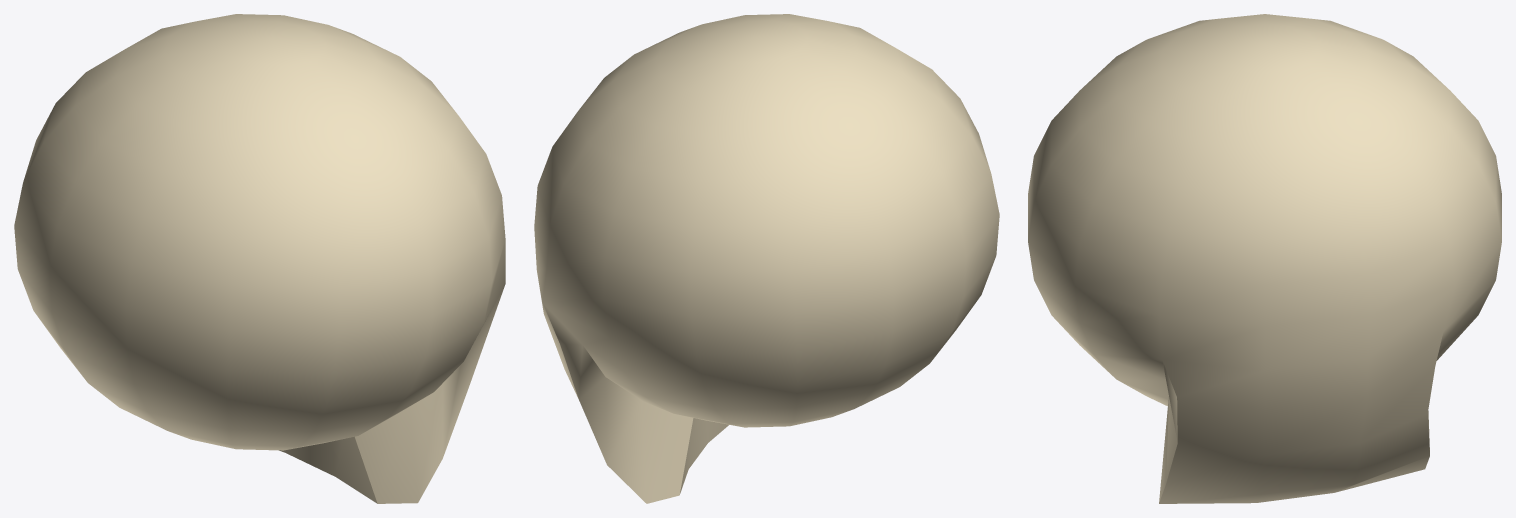
The model's file is SM_Skull.fbx.
The picture shows the model from 3 angles, left to right: view 1: azimuth 30°, elevation 25°; view 2: azimuth 150°, elevation 25°; view 3: azimuth 270°, elevation 25°; orthographic projection. The views are drawn at different scales.
Parts seen in each view (by area): view 1: SM_Skull; view 2: SM_Skull; view 3: SM_Skull.
Boxes of the visible parts, x1,y1,x2,y2 form: SM_Skull: (14, 14, 505, 503); SM_Skull: (534, 14, 999, 503); SM_Skull: (1028, 14, 1501, 503).
Size of the model in its own units: 47.9 by 48.91 by 49.68.
